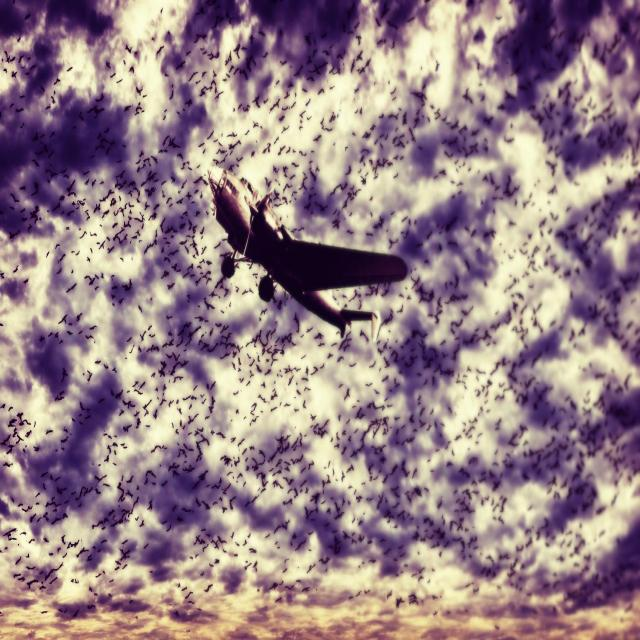airplane: (206, 164, 408, 343)
